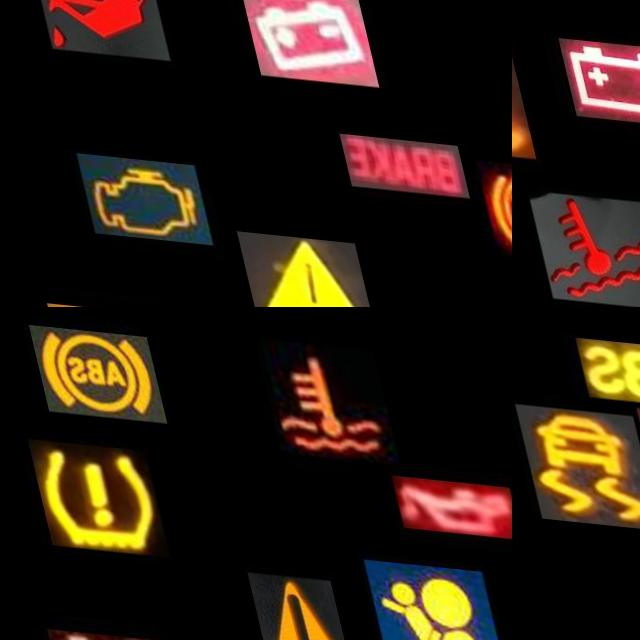Central Warning lamp: (223, 226, 360, 307), (227, 566, 332, 640)
Engine cooling system: (246, 331, 386, 456), (512, 188, 640, 305)
